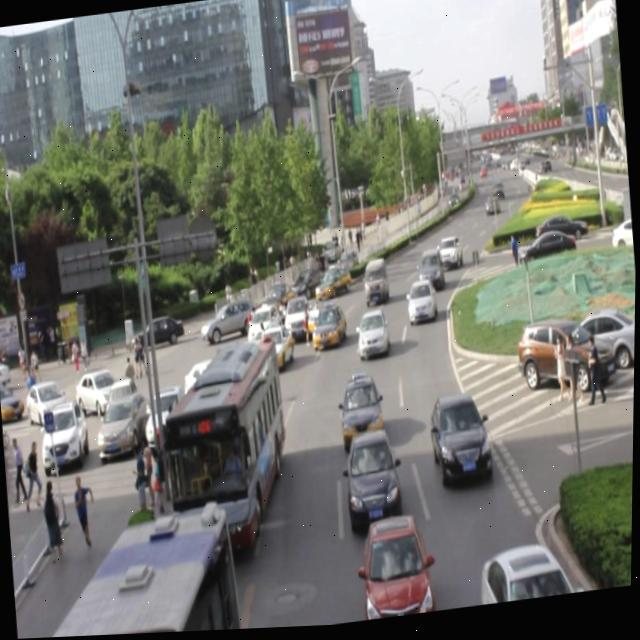car: (360, 514, 432, 623), (428, 391, 492, 489), (344, 432, 403, 529), (480, 545, 568, 609), (338, 374, 386, 452), (200, 299, 259, 345), (216, 337, 255, 393), (308, 295, 349, 348), (254, 321, 299, 369), (354, 311, 391, 363), (246, 304, 284, 351), (281, 287, 316, 337), (313, 257, 355, 298), (405, 280, 438, 329), (415, 251, 446, 296), (436, 238, 464, 273)
truck: (361, 258, 390, 307)
van: (34, 506, 240, 639), (159, 340, 292, 536)
